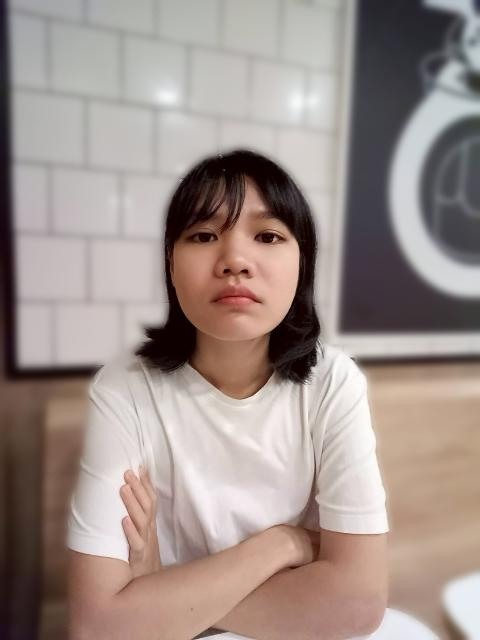fokus: (168, 170, 302, 345)
